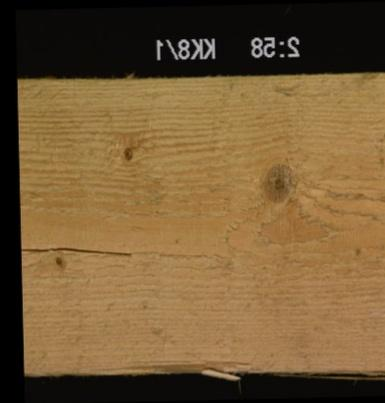dry_knot: (122, 144, 134, 161), (53, 254, 62, 265)
sound_knot: (263, 160, 292, 203)
split: (19, 244, 132, 256)
wave: (76, 359, 253, 383)
